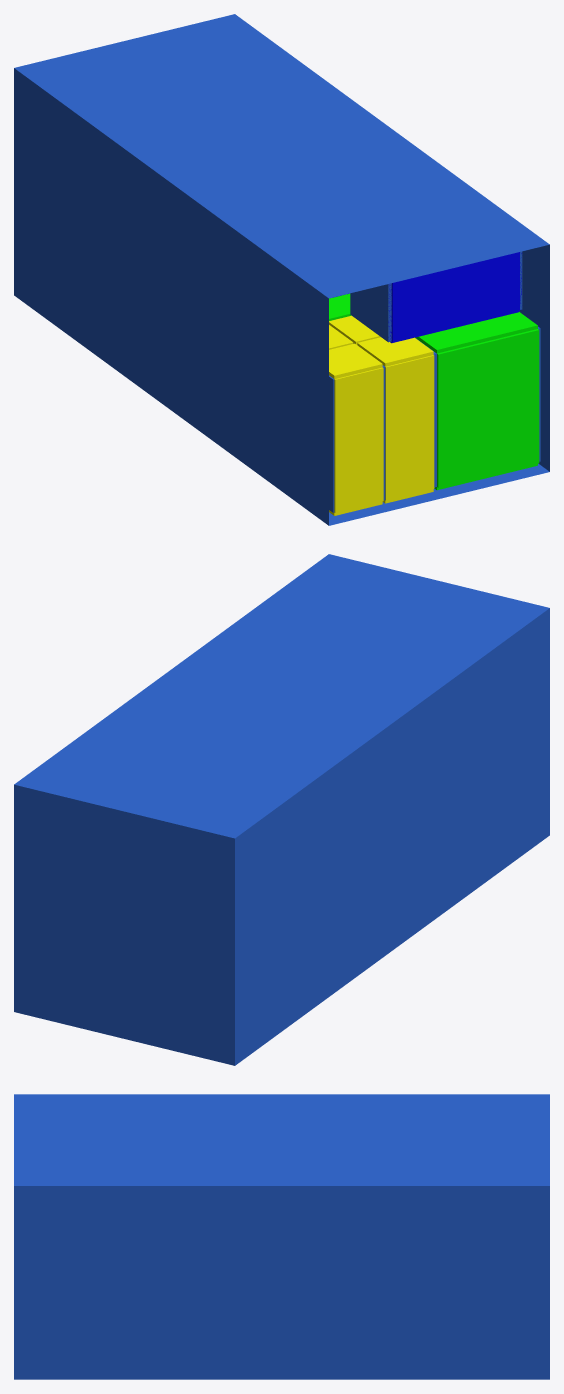
File: Bins.fbx
The picture shows the model from 3 angles, top to bottom: view 1: azimuth 30°, elevation 25°; view 2: azimuth 150°, elevation 25°; view 3: azimuth 270°, elevation 25°; orthographic projection. The views are drawn at different scales.
Parts seen in each view (by area): view 1: bintop, BinIso20Bottom, binleft, front_4, front_15, front_11, front_12, binright, top_4, binbottom, top_11, top_12 (+1 smaller); view 2: BinIso20Bottom, bintop, BinIso20Back; view 3: BinIso20Bottom, binright, bintop.
Part boxes in pixels (x1=…): bintop: x1=14, y1=14, x2=549, y2=298; BinIso20Bottom: x1=14, y1=74, x2=549, y2=525; binleft: x1=14, y1=68, x2=324, y2=515; front_4: x1=437, y1=329, x2=539, y2=487; front_15: x1=391, y1=252, x2=519, y2=342; front_11: x1=385, y1=355, x2=434, y2=500; front_12: x1=334, y1=367, x2=383, y2=512; binright: x1=519, y1=244, x2=549, y2=460; top_4: x1=415, y1=312, x2=537, y2=353; binbottom: x1=329, y1=463, x2=549, y2=525; top_11: x1=357, y1=337, x2=433, y2=366; top_12: x1=329, y1=343, x2=382, y2=379; BinIso20Bottom: x1=235, y1=608, x2=549, y2=1065; bintop: x1=14, y1=554, x2=549, y2=838; BinIso20Back: x1=14, y1=784, x2=234, y2=1065; BinIso20Bottom: x1=14, y1=1186, x2=549, y2=1379; binright: x1=14, y1=1192, x2=549, y2=1379; bintop: x1=14, y1=1094, x2=549, y2=1185.
Bounding box in the file's own units: 2390 × 2350 × 5900.
